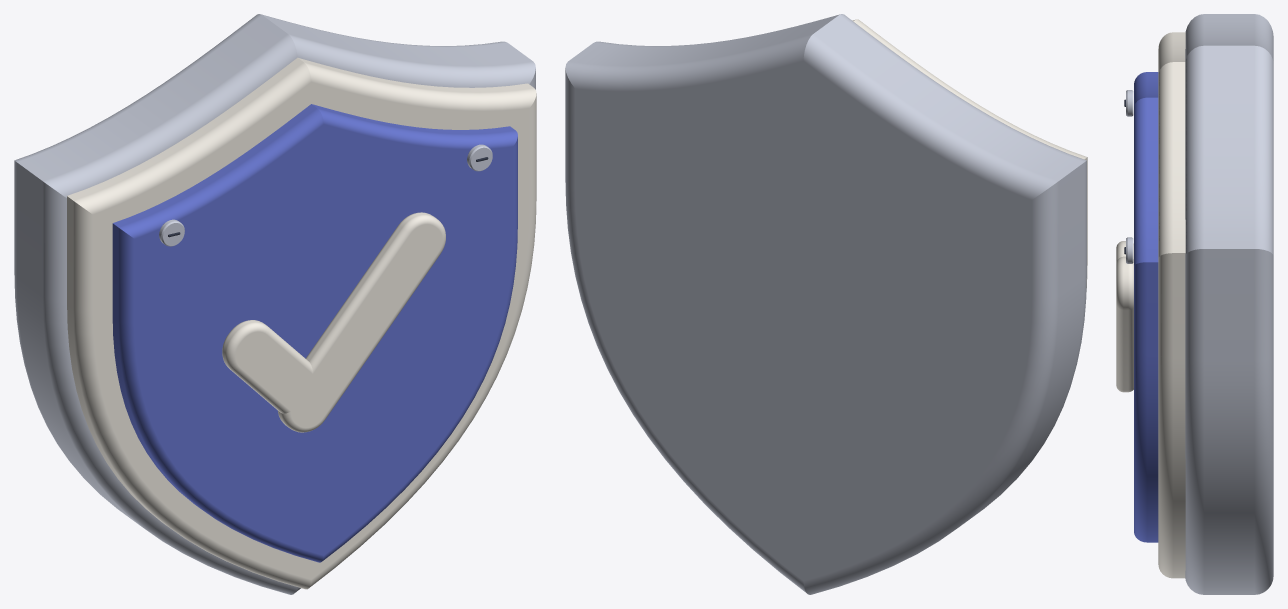
Rendered from shield.glb.
3 renders of one model, left to right at view 1: azimuth 30°, elevation 25°; view 2: azimuth 150°, elevation 25°; view 3: azimuth 270°, elevation 25°, orthographic.
Parts seen in each view (by area): view 1: shield; view 2: shield; view 3: shield.
Part boxes in pixels (bbox=[...]): shield: bbox=[14, 14, 536, 594]; shield: bbox=[565, 14, 1087, 594]; shield: bbox=[1116, 14, 1273, 594].
Bounding box in the file's own units: 1.88 × 2.05 × 0.5325.
